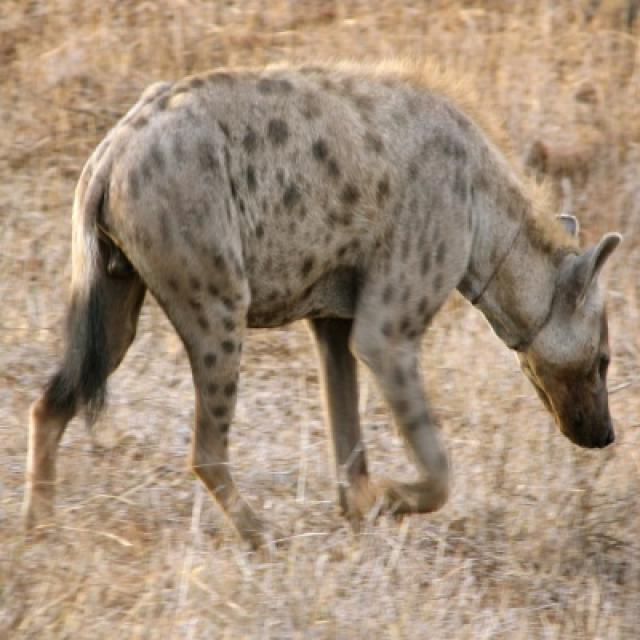hyena: (26, 64, 619, 547)
